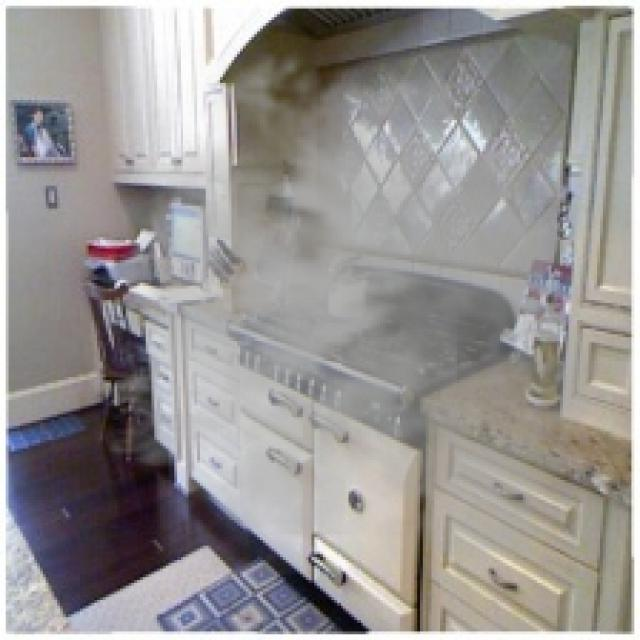smoke: (71, 37, 632, 574)
